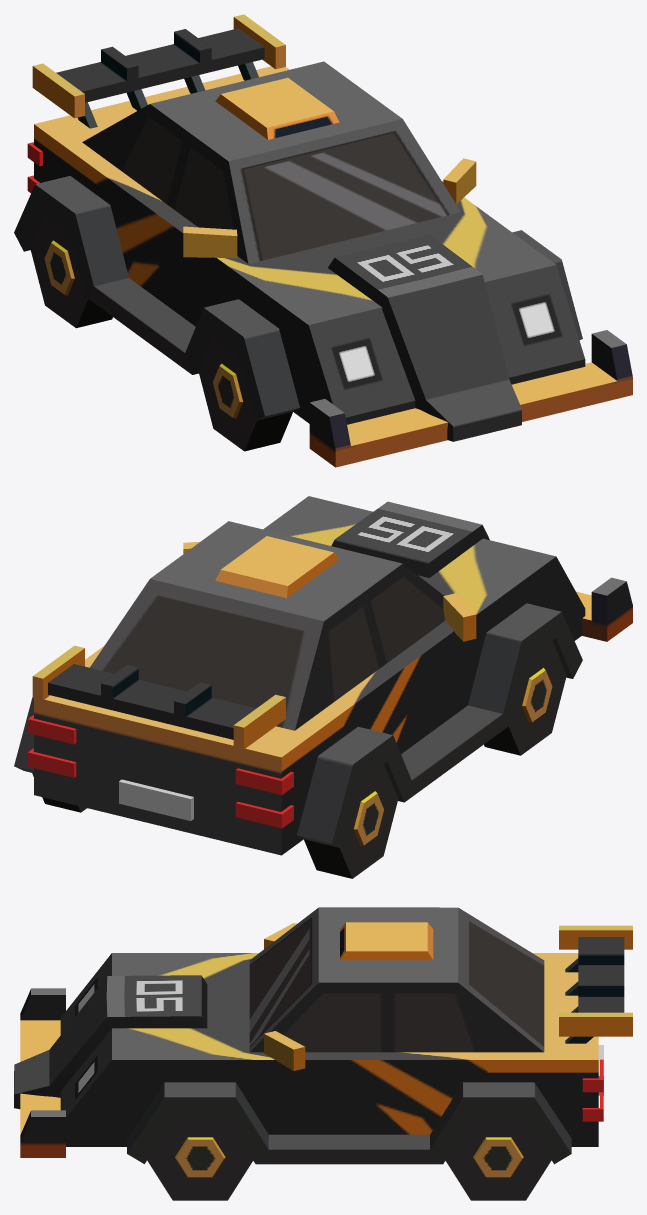
Rendered from Player_car_301014.FBX.
3 views of the same model, one above another, from view 1: azimuth 30°, elevation 25°; view 2: azimuth 150°, elevation 25°; view 3: azimuth 270°, elevation 25° (orthographic). The views are drawn at different scales.
Parts seen in each view (by area): view 1: Player_car_301014; view 2: Player_car_301014; view 3: Player_car_301014.
Boxes of the visible parts, box(x1,y1,x2,y2) form: Player_car_301014: box(14, 14, 632, 467); Player_car_301014: box(14, 496, 632, 878); Player_car_301014: box(14, 907, 632, 1200).
Bounding box in the file's own units: 26.3 × 17.62 × 50.06.
